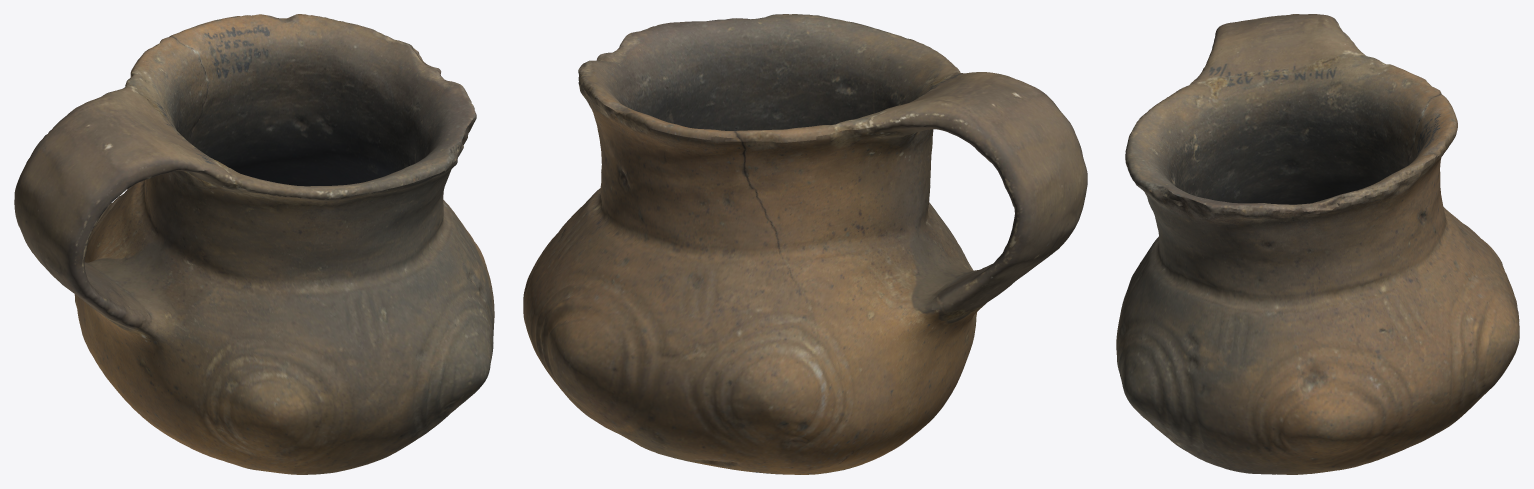
File: obj_knobby_mug_b1367a.glb
The picture shows the model from 3 angles, left to right: view 1: azimuth 30°, elevation 25°; view 2: azimuth 150°, elevation 25°; view 3: azimuth 270°, elevation 25°; orthographic projection. The views are drawn at different scales.
Parts seen in each view (by area): view 1: obj_knobby_mug_b1367a; view 2: obj_knobby_mug_b1367a; view 3: obj_knobby_mug_b1367a.
Part boxes in pixels (left/top/right/bottom): obj_knobby_mug_b1367a: left=14, top=14, right=494, bottom=474; obj_knobby_mug_b1367a: left=523, top=14, right=1087, bottom=474; obj_knobby_mug_b1367a: left=1116, top=14, right=1519, bottom=474.
Bounding box in the file's own units: 0.391 × 0.3 × 0.314.
1 material, 1 textured.
